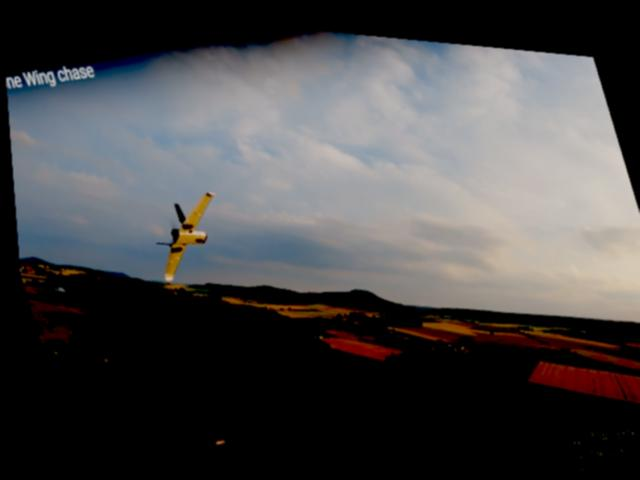plane: (137, 181, 234, 284)
